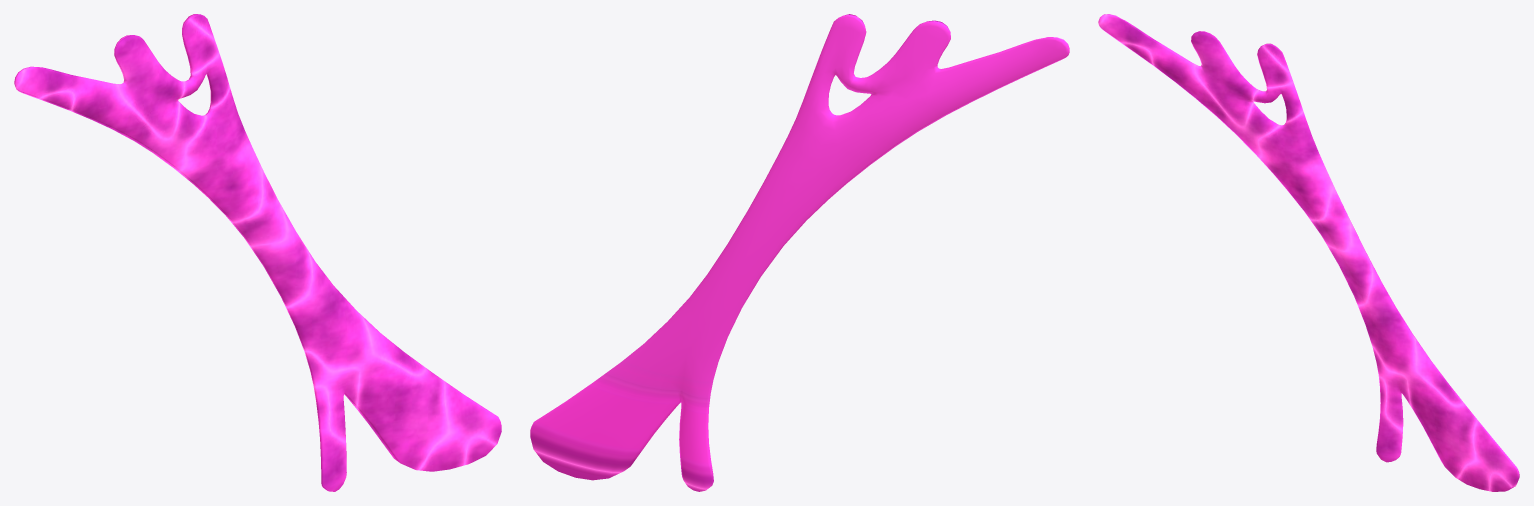
The model's file is caos_drs_chaosenergy_01c_chaos_v36.glb.
The picture shows the model from 3 angles, left to right: view 1: azimuth 30°, elevation 25°; view 2: azimuth 150°, elevation 25°; view 3: azimuth 330°, elevation 25°; orthographic projection. The views are drawn at different scales.
Visible parts, largest first — view 1: caos_drs_chaosenergy_01c; view 2: caos_drs_chaosenergy_01c; view 3: caos_drs_chaosenergy_01c.
Boxes of the visible parts, x1,y1,x2,y2 form: caos_drs_chaosenergy_01c: (14, 14, 501, 491); caos_drs_chaosenergy_01c: (530, 14, 1069, 491); caos_drs_chaosenergy_01c: (1098, 14, 1519, 491).
Bounding box in the file's own units: 5.93 × 5.85 × 0.841.
1 material, 1 textured.
